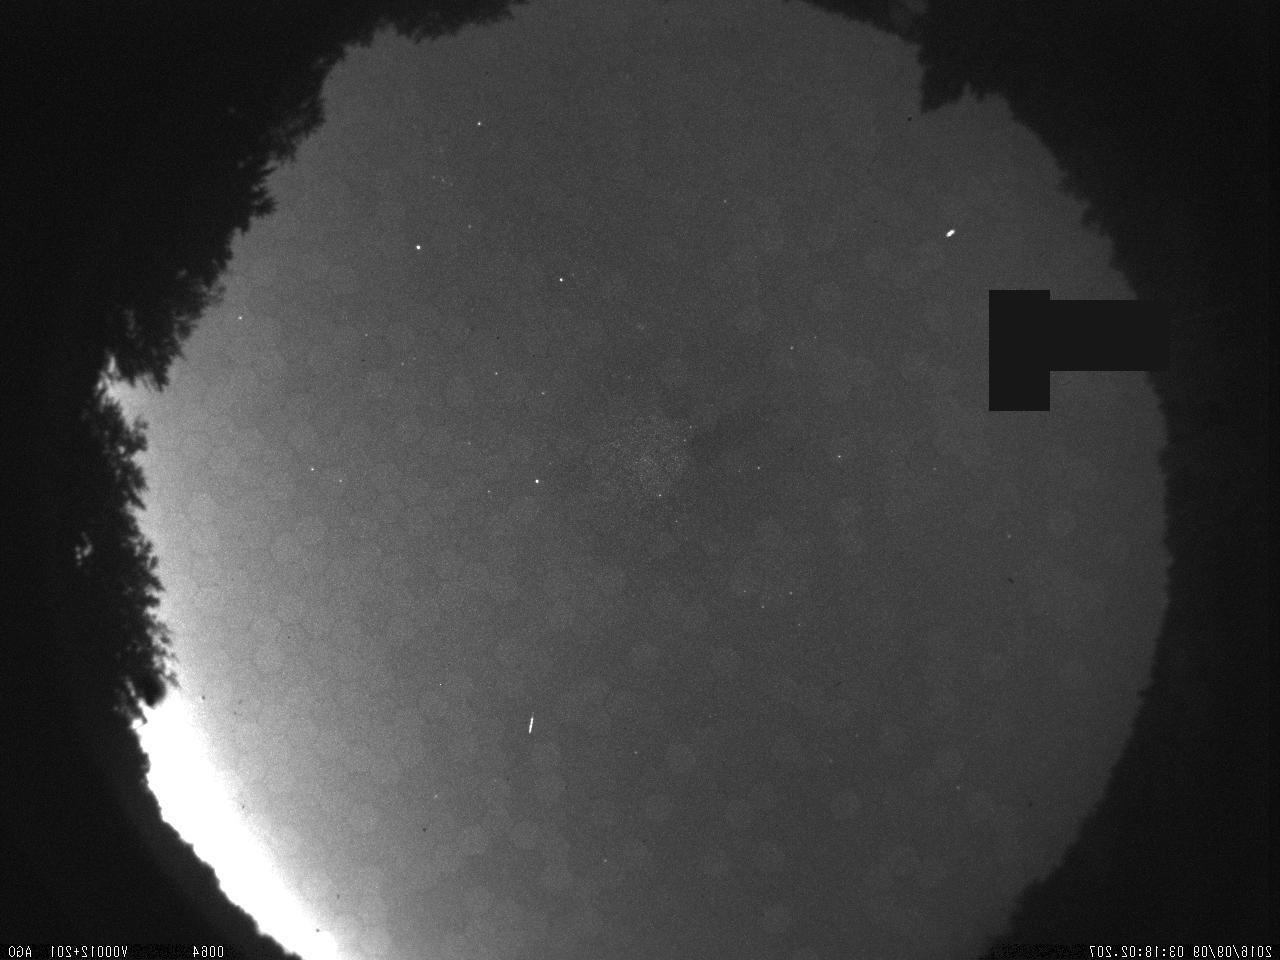meteor: (522, 710, 543, 743)
